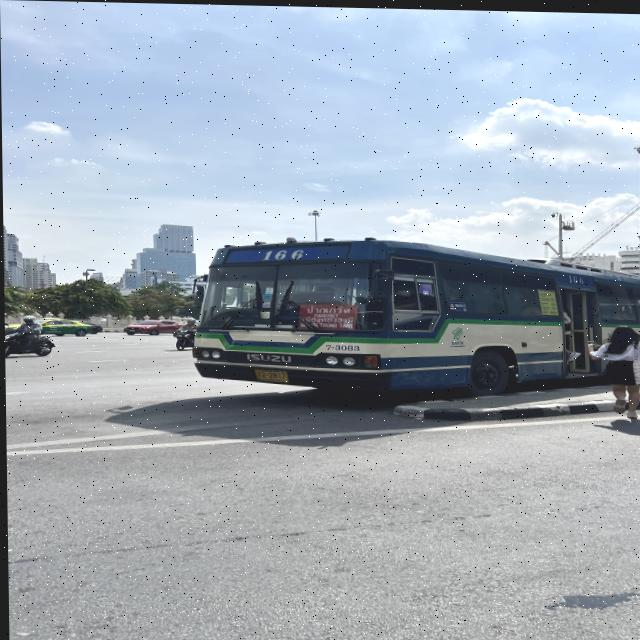BMTA-bus: (189, 234, 640, 405)
Bus-Line-Number: (256, 246, 311, 260)
Destination-Sign-Extra-Bus: (302, 303, 358, 329)
